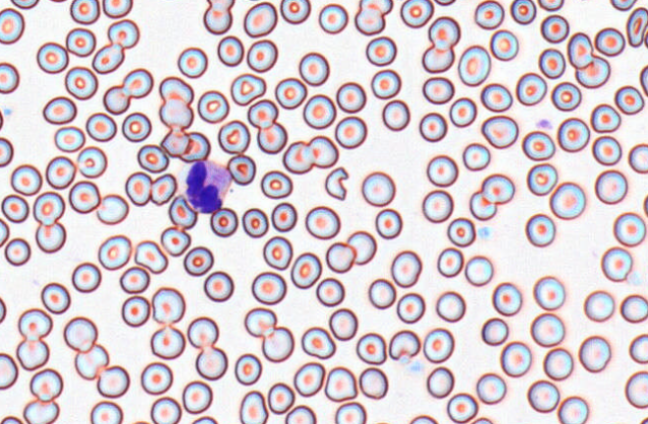GRAN: (179, 159, 234, 214)
PLT: (478, 225, 491, 240), (537, 119, 551, 130)
RBC: (457, 44, 490, 86), (549, 181, 585, 219), (74, 343, 109, 380), (151, 286, 185, 324), (63, 316, 97, 352), (97, 234, 131, 270), (304, 205, 340, 239), (361, 170, 395, 206), (243, 1, 277, 37), (302, 93, 336, 129), (261, 325, 294, 362), (578, 335, 611, 372), (481, 115, 518, 148), (390, 249, 422, 287), (150, 325, 185, 359), (575, 54, 610, 88), (251, 271, 286, 305), (530, 312, 564, 347), (324, 366, 357, 402), (613, 211, 646, 247), (29, 368, 63, 402), (96, 364, 130, 398), (64, 66, 98, 100), (17, 307, 52, 340), (300, 326, 335, 359), (217, 119, 250, 154), (594, 169, 627, 204), (557, 117, 590, 152), (293, 361, 325, 397), (230, 73, 266, 105), (422, 327, 454, 363), (290, 251, 321, 288), (500, 340, 531, 377), (32, 191, 65, 225), (140, 361, 173, 395), (334, 115, 367, 149), (600, 246, 632, 281), (533, 275, 565, 310), (195, 346, 227, 380), (282, 140, 314, 174), (527, 379, 559, 413), (197, 89, 229, 123), (298, 51, 329, 86), (16, 338, 49, 370), (428, 16, 460, 49), (91, 42, 124, 74), (96, 193, 129, 225), (68, 180, 100, 213), (583, 289, 615, 322), (274, 77, 307, 109), (421, 189, 453, 222), (426, 154, 458, 187), (515, 72, 547, 105), (181, 380, 212, 414), (45, 155, 76, 189), (346, 230, 376, 265), (262, 235, 292, 270), (492, 281, 522, 316), (566, 31, 593, 69), (187, 316, 219, 348), (10, 163, 42, 195), (36, 41, 68, 73), (307, 135, 338, 168), (244, 306, 277, 337), (256, 121, 287, 154), (481, 173, 514, 204), (246, 39, 277, 72), (76, 145, 107, 178), (526, 163, 557, 196), (159, 99, 193, 129), (525, 213, 555, 247), (521, 130, 555, 160), (158, 76, 193, 105), (203, 270, 234, 302), (446, 392, 478, 423), (475, 372, 506, 404), (355, 332, 386, 364), (335, 81, 366, 113), (238, 390, 268, 423), (543, 347, 573, 380), (136, 143, 169, 173), (42, 95, 76, 124), (124, 171, 152, 206), (122, 67, 153, 98), (179, 131, 210, 162), (35, 222, 66, 253), (370, 68, 401, 99), (365, 35, 396, 66), (107, 18, 139, 48), (71, 261, 101, 293), (40, 282, 70, 314), (325, 241, 355, 273), (260, 169, 292, 199), (358, 367, 388, 399), (177, 46, 207, 78), (435, 290, 465, 322), (480, 82, 512, 112), (421, 44, 454, 73), (328, 307, 357, 340), (399, 0, 433, 28), (247, 98, 278, 128), (65, 27, 96, 57), (183, 245, 213, 276), (226, 154, 256, 185), (121, 111, 151, 142), (85, 112, 116, 142), (318, 3, 348, 34), (590, 103, 621, 133), (121, 295, 150, 327), (381, 99, 410, 131), (489, 29, 518, 61), (160, 226, 190, 256), (614, 85, 644, 115), (551, 81, 581, 111), (592, 135, 622, 165), (119, 265, 150, 294), (367, 278, 396, 309), (396, 292, 425, 323), (464, 255, 493, 286), (418, 111, 447, 142), (594, 27, 625, 56), (426, 366, 454, 398), (234, 353, 262, 385), (422, 76, 454, 104), (0, 7, 24, 44), (209, 207, 238, 237), (446, 217, 475, 247), (474, 0, 504, 29), (354, 7, 385, 35), (557, 395, 588, 423), (23, 399, 59, 423), (267, 382, 294, 414), (150, 173, 177, 205), (53, 125, 85, 152), (538, 47, 565, 79), (315, 277, 344, 306), (0, 193, 29, 222), (540, 14, 569, 43), (150, 396, 181, 423), (375, 208, 402, 239), (241, 207, 268, 238), (217, 35, 244, 66), (449, 96, 476, 127), (625, 370, 647, 408), (102, 85, 130, 114), (462, 142, 490, 171), (469, 190, 496, 220), (620, 293, 647, 323), (270, 202, 297, 232), (436, 247, 463, 277), (89, 400, 123, 423), (481, 317, 508, 345), (4, 237, 30, 266), (69, 0, 100, 24), (279, 0, 310, 24), (334, 401, 366, 423), (0, 352, 18, 390), (509, 0, 536, 24), (0, 61, 19, 94), (284, 404, 316, 423), (628, 143, 647, 173), (629, 333, 647, 364), (102, 0, 133, 18), (359, 0, 392, 15), (0, 136, 13, 167), (609, 0, 637, 11), (537, 0, 564, 11), (206, 0, 234, 10), (0, 217, 9, 247), (408, 414, 437, 423), (10, 0, 39, 9), (639, 64, 647, 96), (190, 415, 218, 423), (0, 415, 23, 423), (0, 296, 6, 323), (470, 416, 493, 423), (433, 0, 456, 6), (643, 192, 648, 217), (643, 27, 648, 49), (371, 420, 394, 424), (0, 107, 4, 130), (130, 420, 151, 424), (572, 0, 595, 3), (48, 0, 67, 3), (639, 416, 647, 423), (157, 0, 183, 2)
Schistocyte: (170, 194, 198, 229), (389, 329, 420, 358), (324, 167, 349, 202), (628, 7, 648, 47), (162, 130, 189, 156)
